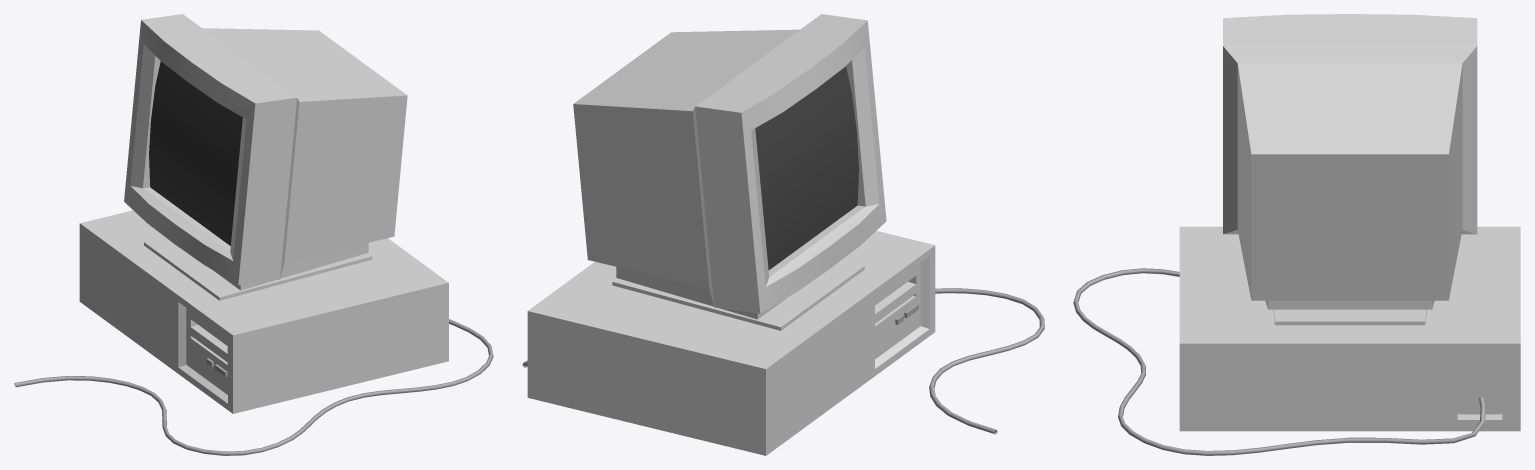
Rendered from Monitor.fbx.
3 views of the same model, side by side, from view 1: azimuth 30°, elevation 25°; view 2: azimuth 150°, elevation 25°; view 3: azimuth 270°, elevation 25° (orthographic). The views are drawn at different scales.
Visible parts, largest first — view 1: Monitor; view 2: Monitor; view 3: Monitor.
Part boxes in pixels (x1,y1,x2,y2): Monitor: [14, 14, 493, 455]; Monitor: [522, 14, 1044, 455]; Monitor: [1073, 14, 1520, 455].
Bounding box in the file's own units: 17.99 × 12.32 × 15.65.
